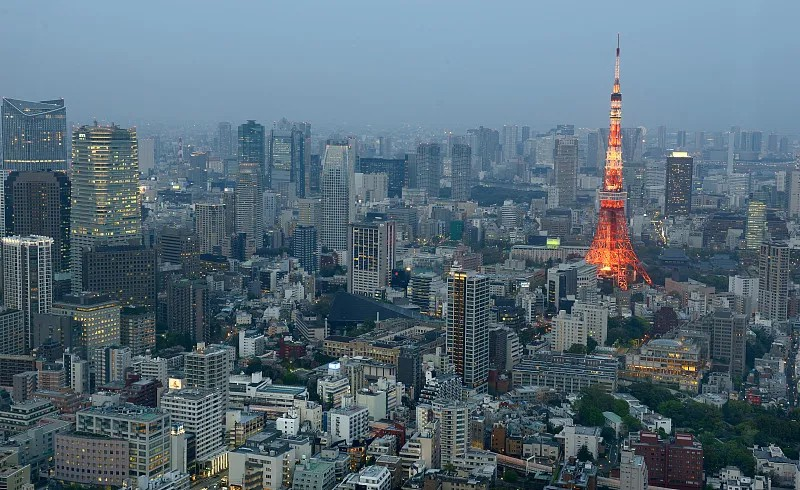Tokyo: (582, 30, 653, 292)
